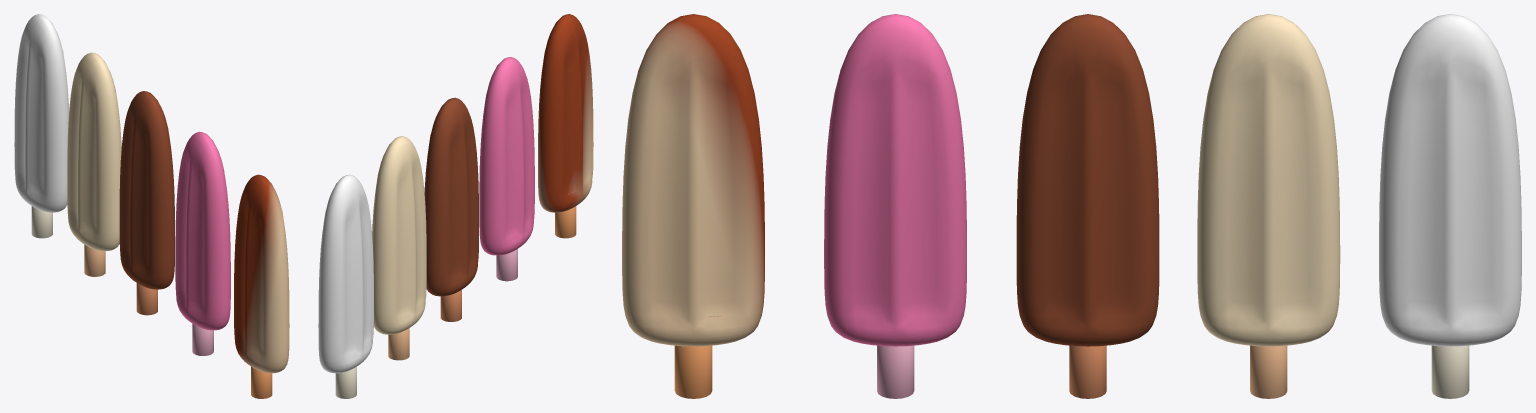
The model's file is popsicle.2.fbx.
3 views of the same model, side by side, from view 1: azimuth 30°, elevation 25°; view 2: azimuth 150°, elevation 25°; view 3: azimuth 270°, elevation 25° (orthographic). The views are drawn at different scales.
Parts seen in each view (by area): view 1: Cube.002, Cube, Cube.004, Cube.003, Cube.001; view 2: Cube.002, Cube.004, Cube.003, Cube.001, Cube; view 3: Cube, Cube.003, Cube.004, Cube.001, Cube.002.
Part boxes in pixels (<box>): Cube.002: <box>175,131,230,355</box>; Cube: <box>119,91,174,315</box>; Cube.004: <box>234,174,289,398</box>; Cube.003: <box>14,14,69,238</box>; Cube.001: <box>67,52,121,276</box>; Cube.002: <box>479,57,534,281</box>; Cube.004: <box>538,14,593,238</box>; Cube.003: <box>318,174,373,398</box>; Cube.001: <box>372,136,426,360</box>; Cube: <box>424,97,478,321</box>; Cube: <box>1016,14,1159,398</box>; Cube.003: <box>1379,14,1521,398</box>; Cube.004: <box>622,14,764,398</box>; Cube.001: <box>1197,14,1340,398</box>; Cube.002: <box>824,14,966,398</box>.
Bounding box in the file's own units: 92.6 × 577 × 1250.
